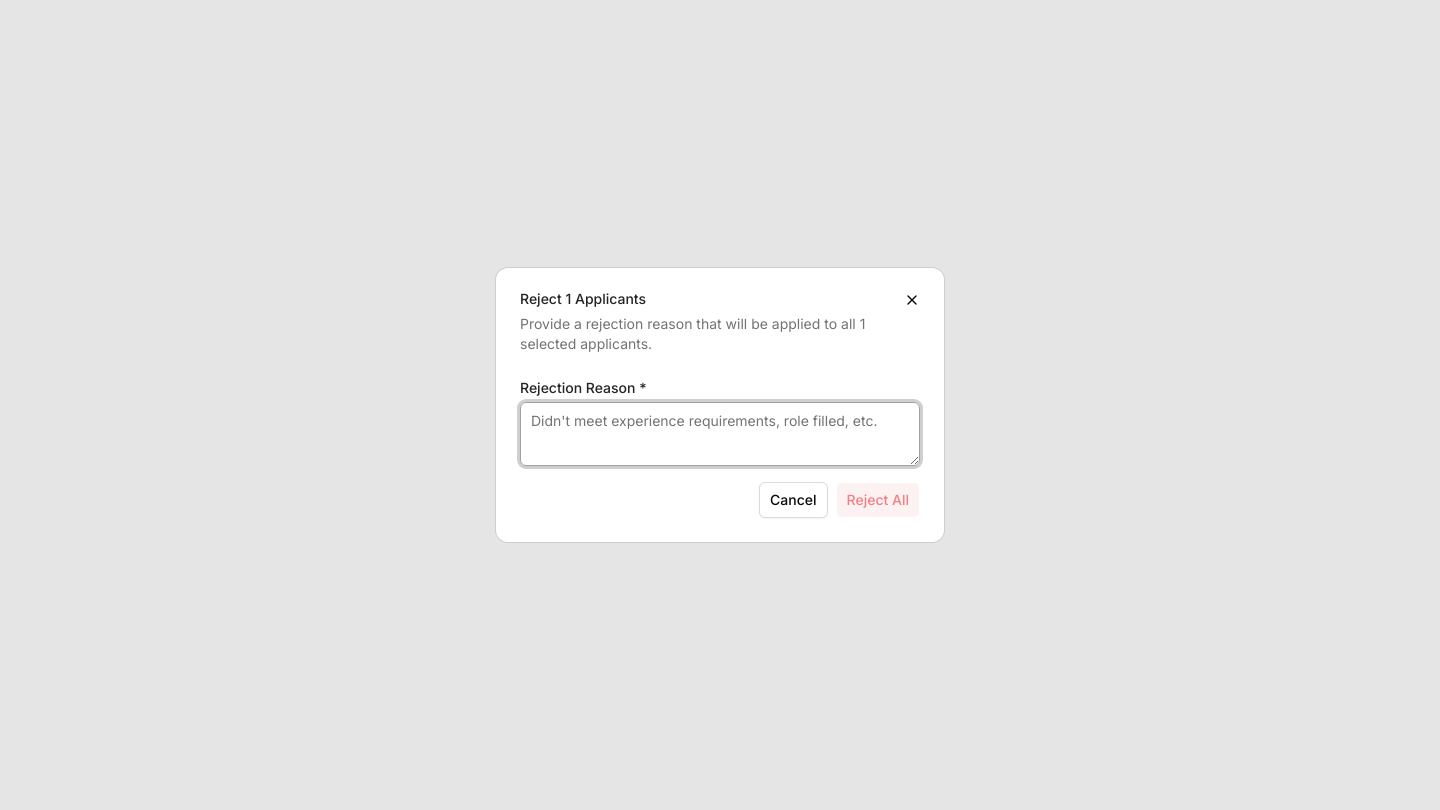
Scenario: BulkRejectDialog › submit button is enabled after typing a reason
Type "Not a good fit" into the text box with placeholder "Didn't meet experience requirements, role filled, etc." at (720, 434), box [520,402,920,466]
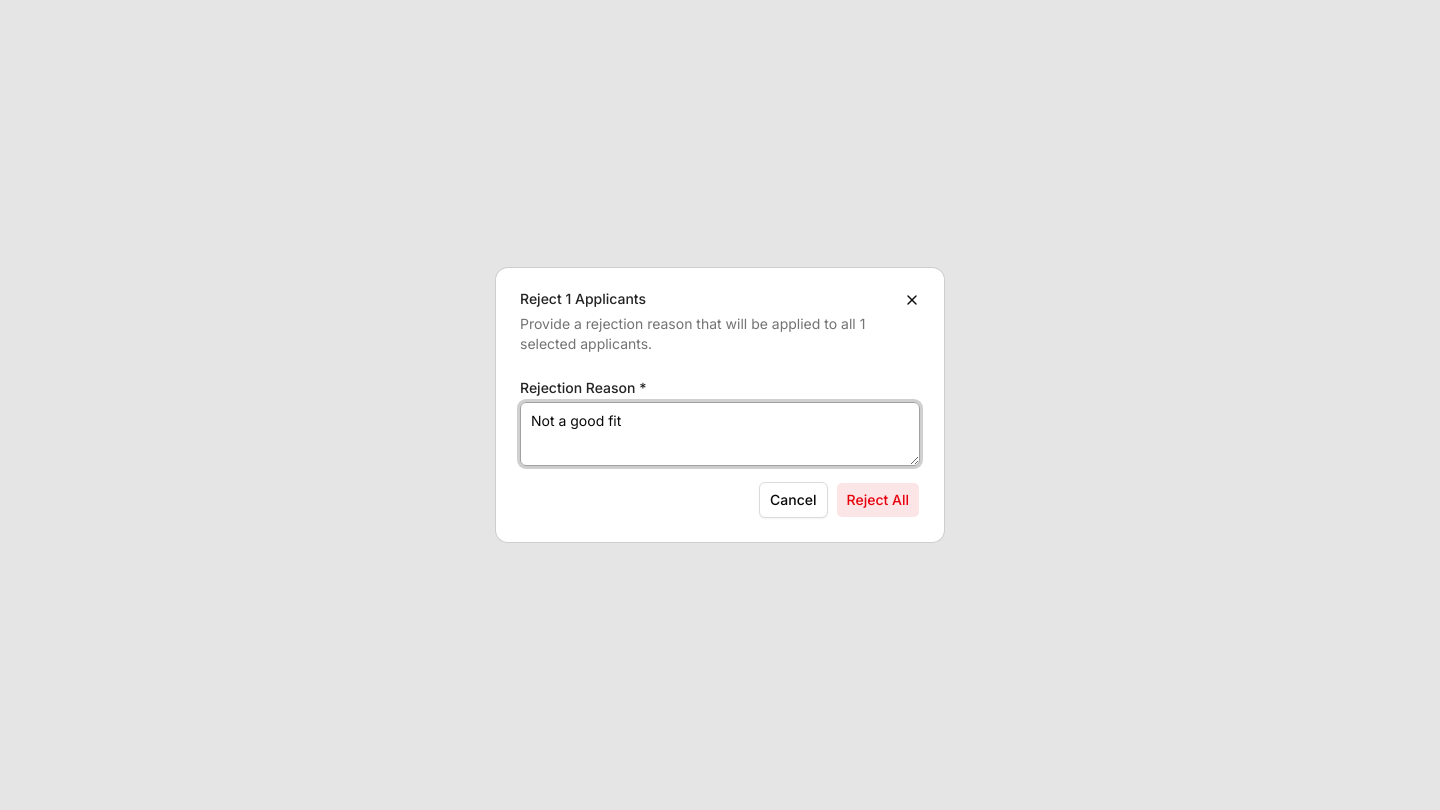
expect the button "Reject All" is enabled: met, box [836,482,920,518]
